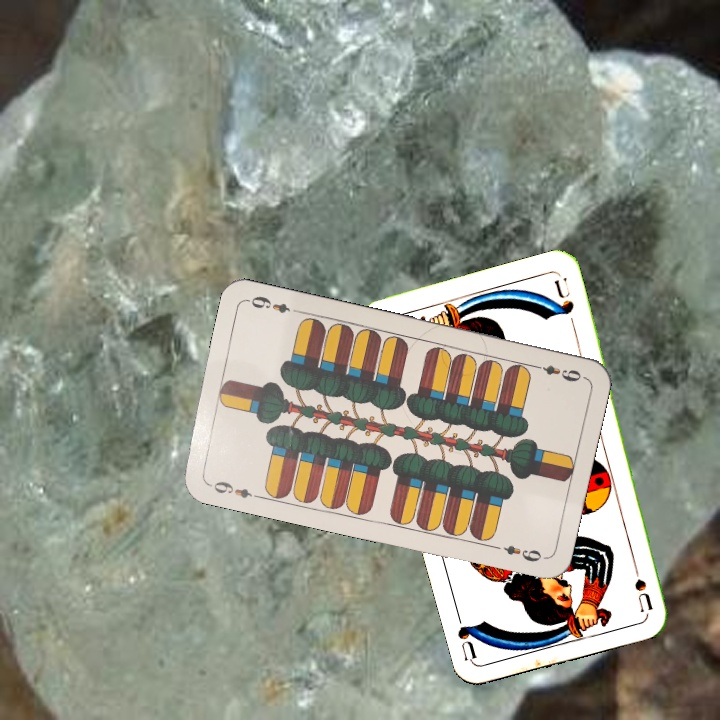E9: (528, 360, 586, 385), (203, 477, 262, 501)
SU: (628, 554, 656, 613)
